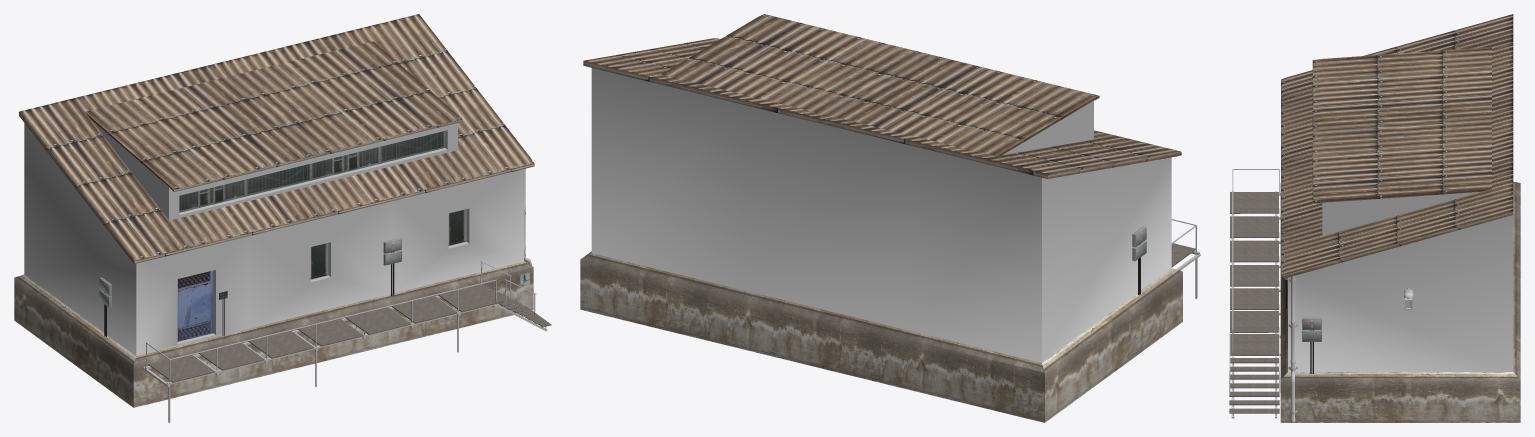
Rendered from house_entrance02_lod1.fbx.
3 renders of one model, left to right at view 1: azimuth 30°, elevation 25°; view 2: azimuth 150°, elevation 25°; view 3: azimuth 270°, elevation 25°, orthographic. The views are drawn at different scales.
Parts seen in each view (by area): view 1: Mesh Object; view 2: Mesh Object; view 3: Mesh Object.
Part boxes in pixels (x1,y1,x2,y2): Mesh Object: (14, 14, 551, 422); Mesh Object: (580, 14, 1200, 422); Mesh Object: (1229, 14, 1520, 422).
Bounding box in the file's own units: 13.43 × 6.39 × 7.89.
